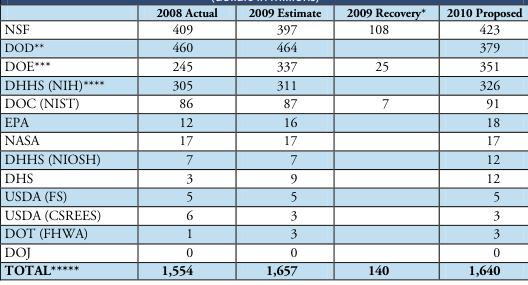table: (3, 4, 521, 278)
table column: (3, 4, 129, 278), (129, 4, 232, 278), (333, 4, 435, 278), (232, 4, 333, 278), (435, 4, 521, 278)
table column header: (3, 4, 521, 19)
table row: (3, 19, 521, 38), (3, 56, 521, 75), (3, 93, 521, 112), (3, 112, 521, 131), (3, 149, 521, 168), (3, 168, 521, 187), (3, 205, 521, 224), (3, 242, 521, 261), (3, 38, 521, 56), (3, 75, 521, 93), (3, 131, 521, 149), (3, 187, 521, 205), (3, 224, 521, 242), (3, 261, 521, 278), (3, 4, 521, 19)
